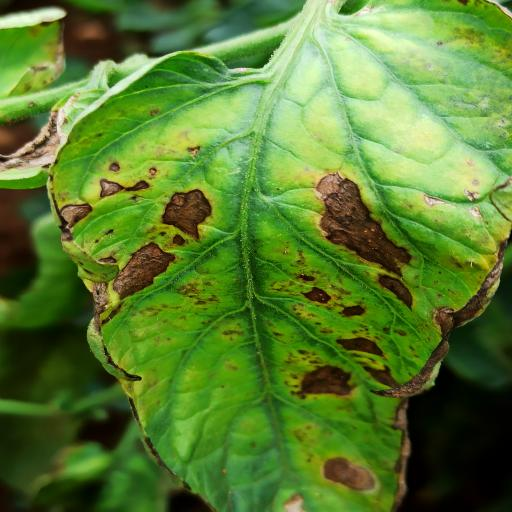Early Blight: (44, 0, 512, 512)
